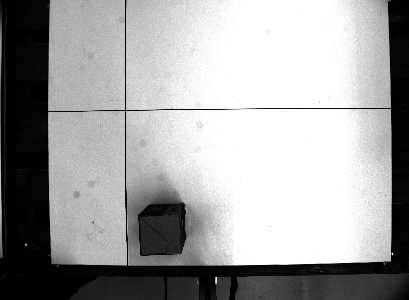b4: (136, 201, 188, 256)
